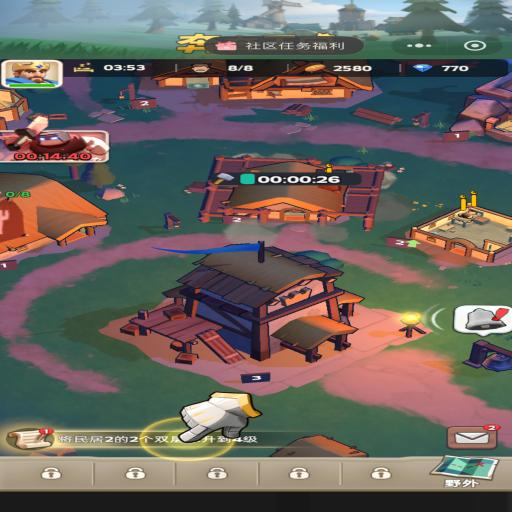newcomer_hand: (176, 393, 260, 442)
